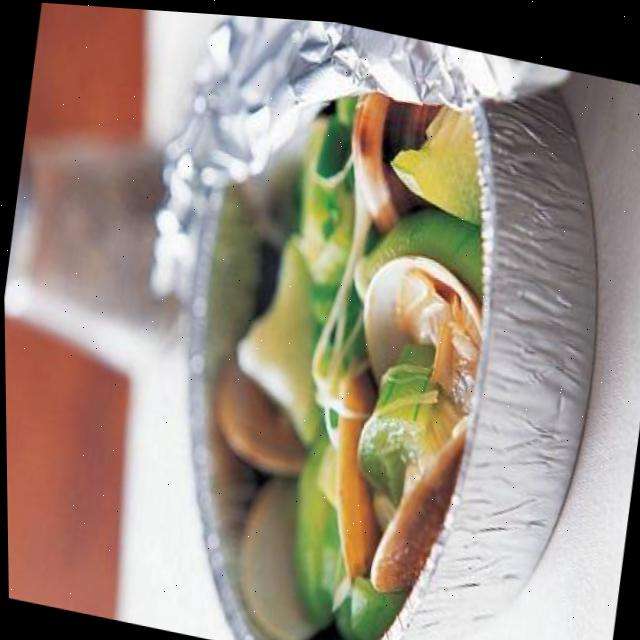Wet: (169, 107, 503, 598)
